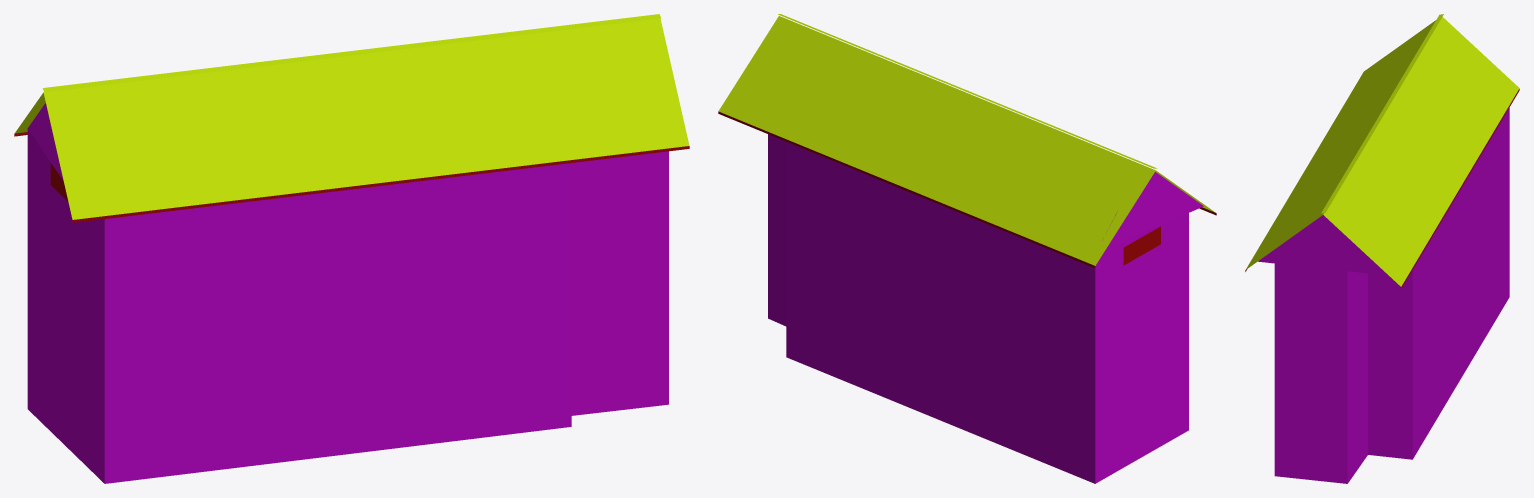
Rendered from bgj_295.glb.
The picture shows the model from 3 angles, left to right: view 1: azimuth 30°, elevation 25°; view 2: azimuth 150°, elevation 25°; view 3: azimuth 270°, elevation 25°; orthographic projection. The views are drawn at different scales.
Visible parts, largest first — view 1: bgj_295; view 2: bgj_295; view 3: bgj_295.
Part boxes in pixels (x1,y1,x2,y2): bgj_295: (14, 14, 689, 483); bgj_295: (718, 14, 1216, 483); bgj_295: (1245, 14, 1519, 483).
Size of the model in its own units: 24.95 by 14.7 by 13.43.
